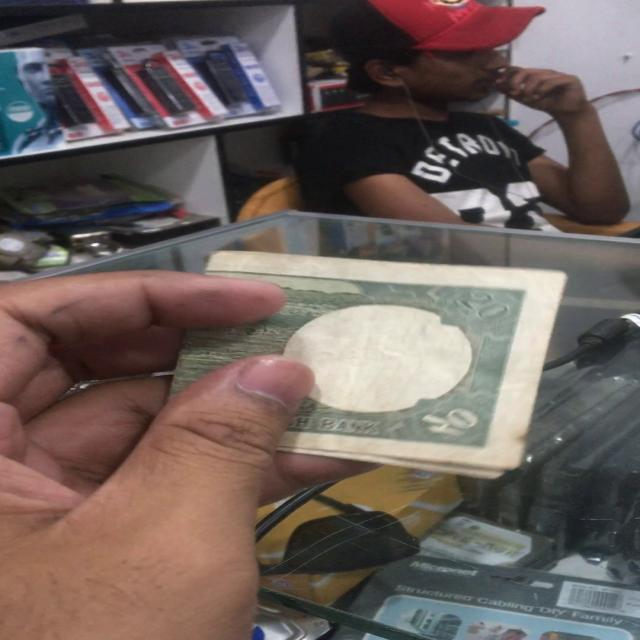Taka: (209, 258, 570, 459)
